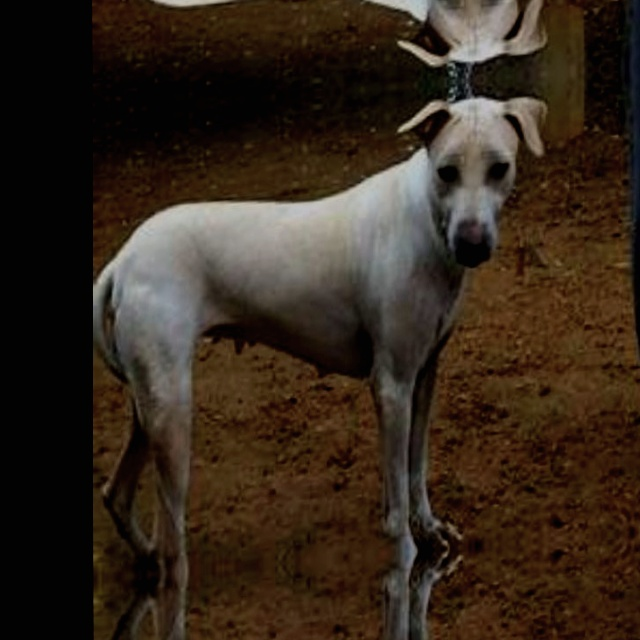dog: (93, 82, 557, 579), (93, 0, 556, 102), (94, 539, 558, 640)
